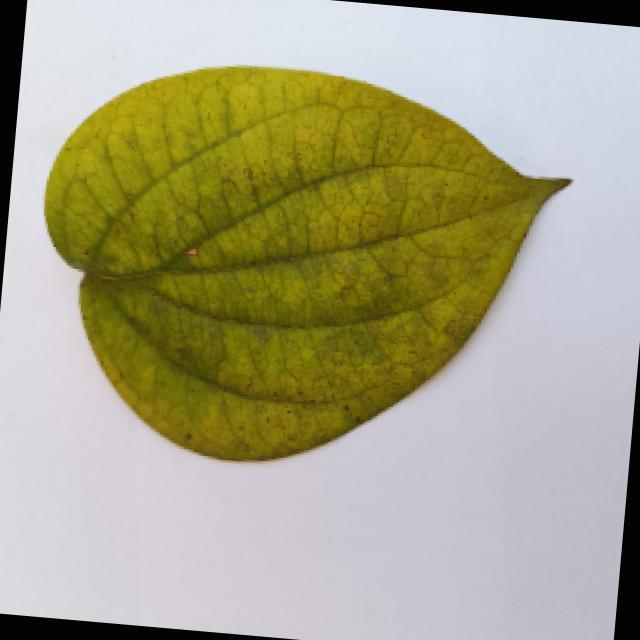slow-decline: (29, 41, 586, 484)
